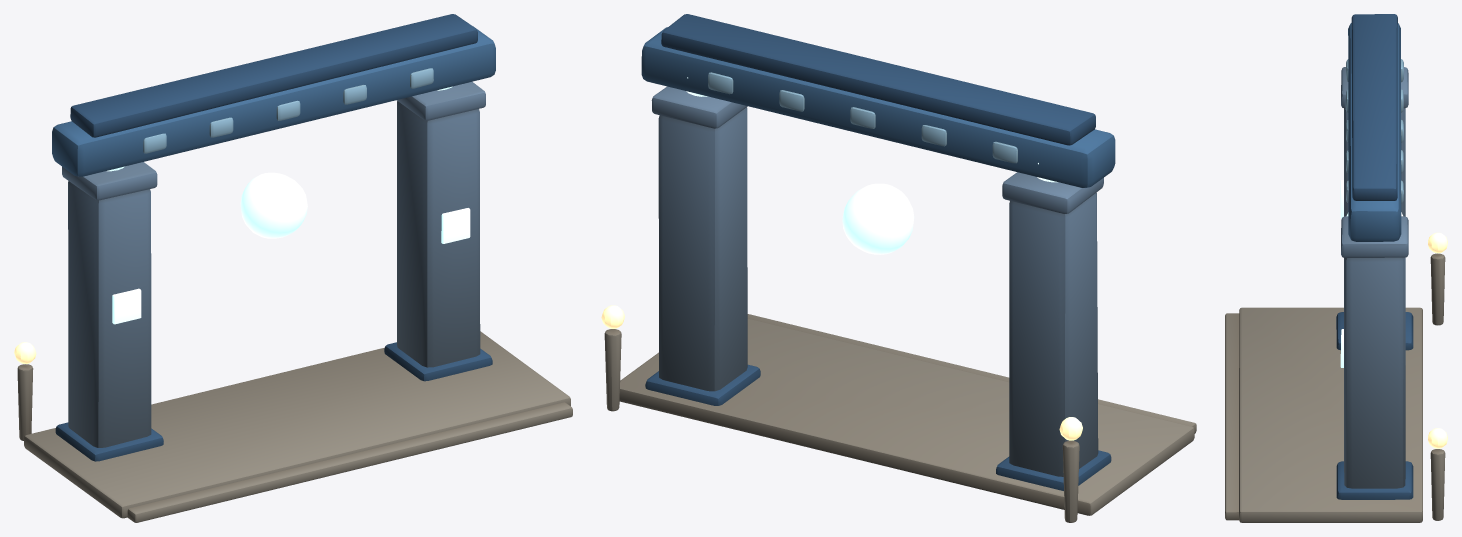
The picture shows the model from 3 angles, left to right: view 1: azimuth 30°, elevation 25°; view 2: azimuth 150°, elevation 25°; view 3: azimuth 270°, elevation 25°; orthographic projection. The views are drawn at different scales.
Visible parts, largest first — view 1: gate_07d839de; view 2: gate_07d839de; view 3: gate_07d839de.
Part boxes in pixels (box(x1,y1,x2,y2)): gate_07d839de: box(14, 14, 572, 522); gate_07d839de: box(601, 14, 1196, 522); gate_07d839de: box(1225, 14, 1447, 522).
Bounding box in the file's own units: 5.54 × 4.05 × 2.54.
